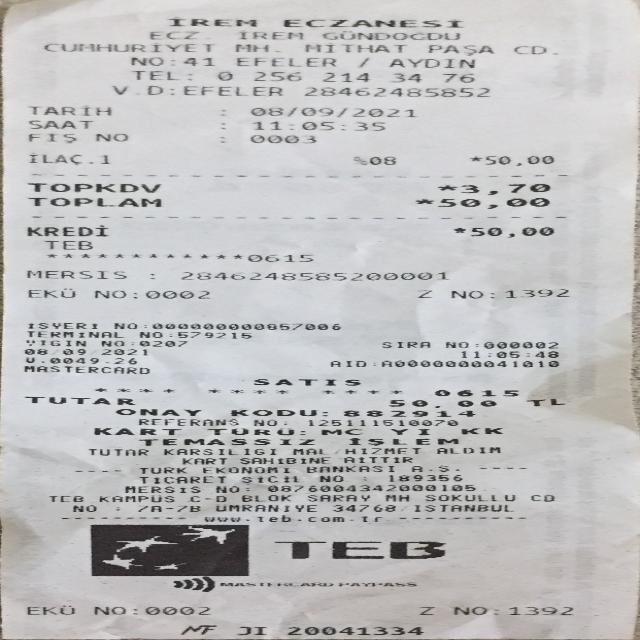text: (269, 538, 443, 558), (180, 270, 446, 280), (304, 85, 486, 97), (284, 17, 460, 28), (42, 41, 210, 52), (248, 106, 414, 117), (382, 358, 558, 368), (151, 322, 339, 331), (265, 482, 473, 490), (246, 120, 391, 131), (137, 437, 311, 446), (307, 417, 457, 427), (26, 181, 158, 192), (286, 624, 418, 635), (204, 514, 379, 522), (321, 30, 456, 40), (27, 196, 159, 206), (21, 394, 133, 405), (435, 197, 546, 208), (22, 364, 144, 374), (182, 84, 280, 96), (383, 397, 495, 407), (162, 446, 273, 456), (341, 408, 472, 416), (305, 42, 399, 53), (214, 502, 316, 512), (23, 269, 122, 279), (413, 502, 512, 512), (236, 56, 333, 66), (167, 16, 255, 27), (25, 224, 105, 236), (137, 473, 224, 484), (252, 378, 358, 387), (27, 152, 106, 164), (388, 57, 472, 68), (343, 436, 458, 444), (458, 183, 549, 193), (467, 226, 549, 237), (137, 417, 237, 426), (24, 356, 135, 364), (199, 464, 287, 474), (303, 464, 390, 474), (144, 604, 212, 616), (386, 472, 460, 483), (26, 104, 107, 114), (433, 388, 514, 398), (204, 426, 292, 435), (91, 426, 177, 435), (460, 350, 556, 358), (145, 288, 208, 300), (26, 330, 120, 338), (237, 456, 328, 464), (242, 252, 314, 262), (428, 43, 492, 54), (423, 493, 511, 501), (482, 154, 552, 164), (341, 446, 418, 455), (114, 407, 199, 415), (229, 408, 313, 416), (122, 484, 196, 493), (96, 493, 170, 502), (248, 133, 314, 143), (26, 118, 90, 128), (502, 288, 566, 298), (238, 473, 299, 483), (137, 502, 198, 512), (332, 502, 393, 512), (510, 604, 571, 614), (176, 331, 248, 339), (24, 132, 74, 143), (238, 30, 299, 39), (305, 493, 366, 502), (322, 70, 367, 82), (86, 447, 146, 456), (482, 341, 556, 348), (43, 239, 90, 250), (435, 446, 499, 454), (254, 70, 300, 81), (27, 321, 83, 330), (343, 455, 414, 462), (132, 69, 176, 80), (27, 287, 71, 298), (28, 604, 72, 615), (409, 462, 457, 472), (137, 464, 184, 474), (346, 155, 398, 164), (217, 582, 332, 586), (26, 338, 83, 346), (148, 29, 193, 39), (239, 493, 289, 502), (175, 624, 219, 634), (179, 456, 224, 465), (290, 446, 330, 456), (379, 340, 428, 348), (337, 581, 414, 586), (524, 396, 562, 406), (138, 339, 184, 347), (92, 131, 125, 142), (96, 604, 129, 615), (442, 71, 472, 83), (100, 348, 145, 356), (318, 426, 358, 435), (386, 426, 426, 435), (460, 426, 500, 435), (329, 358, 364, 368), (449, 604, 484, 614), (233, 42, 264, 53), (448, 288, 479, 299), (235, 625, 269, 635), (392, 71, 420, 83), (180, 55, 210, 66), (128, 56, 159, 66), (46, 493, 80, 502), (512, 44, 542, 54), (92, 288, 120, 298), (316, 472, 340, 483), (71, 502, 95, 512), (529, 492, 551, 502), (212, 483, 236, 492), (434, 183, 453, 194), (413, 197, 432, 208), (382, 493, 404, 502), (254, 417, 275, 426), (415, 288, 430, 300), (61, 347, 83, 355), (415, 604, 432, 614), (445, 340, 466, 348), (112, 322, 135, 329), (23, 347, 43, 355), (217, 70, 231, 81), (109, 84, 123, 95), (139, 331, 160, 338), (100, 339, 121, 346), (212, 121, 229, 129), (148, 84, 159, 95), (467, 154, 478, 164), (135, 604, 145, 615), (354, 57, 364, 67), (212, 493, 223, 502), (186, 493, 196, 502), (490, 604, 498, 614), (170, 56, 177, 66), (128, 288, 134, 298), (201, 493, 207, 502), (297, 426, 302, 435), (218, 106, 222, 117), (488, 288, 492, 299), (218, 134, 222, 144), (148, 270, 152, 280), (320, 408, 324, 416), (142, 322, 146, 329), (284, 418, 286, 427), (475, 340, 476, 348), (169, 331, 170, 338)
